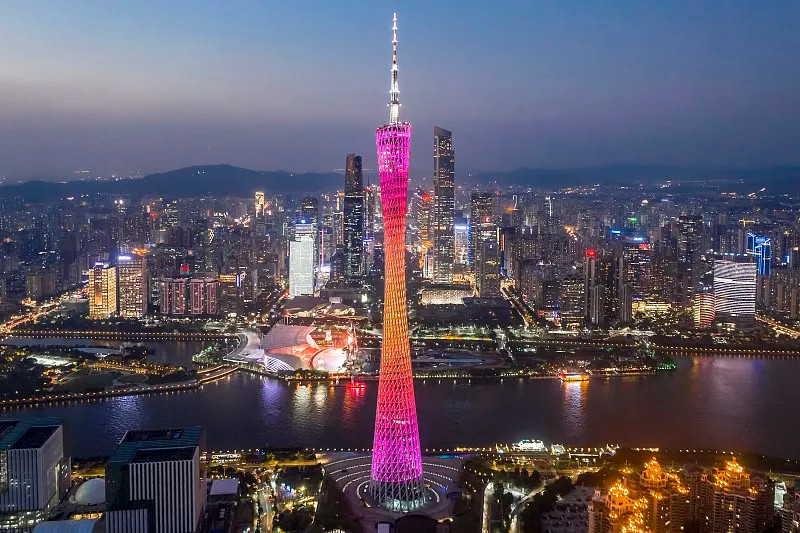Canton: (364, 11, 431, 509)
